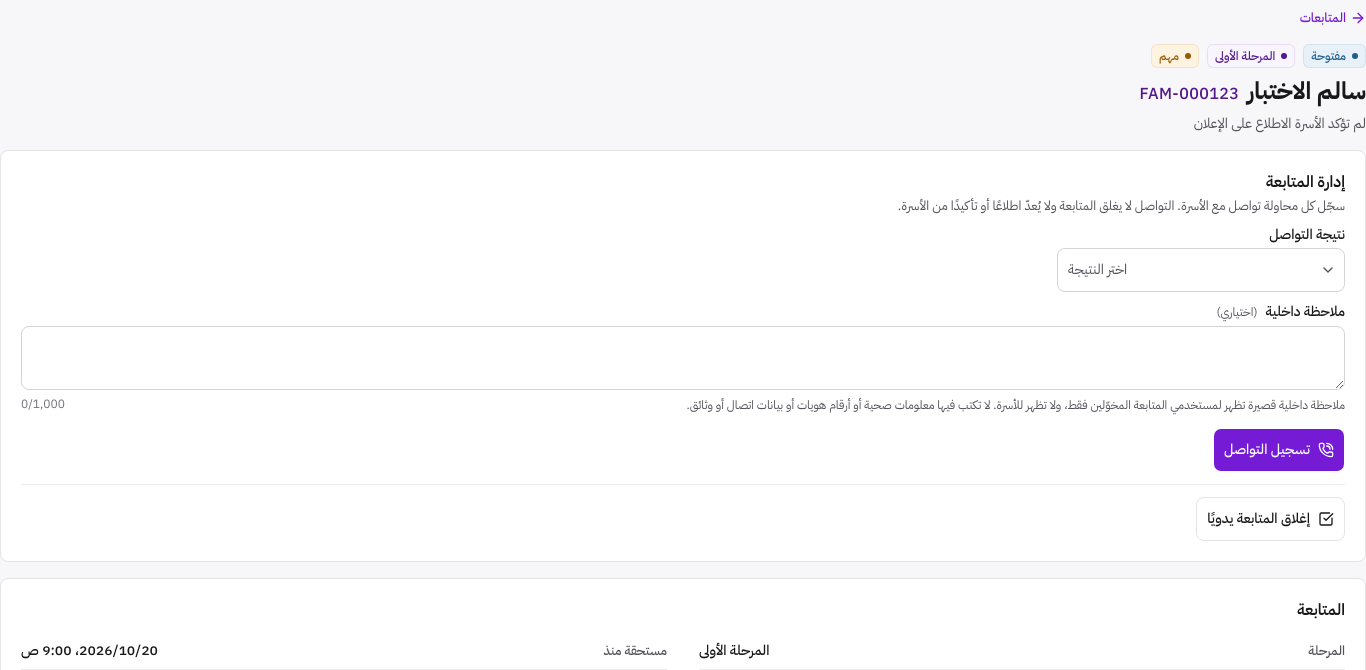
Test case: recording a contact › drops the reference on a 409 reference conflict, and maps 422 to the field
Click the dropdown named "نتيجة التواصل".
click(1098, 270)  # box x1=1057 y1=248 x2=1345 y2=292
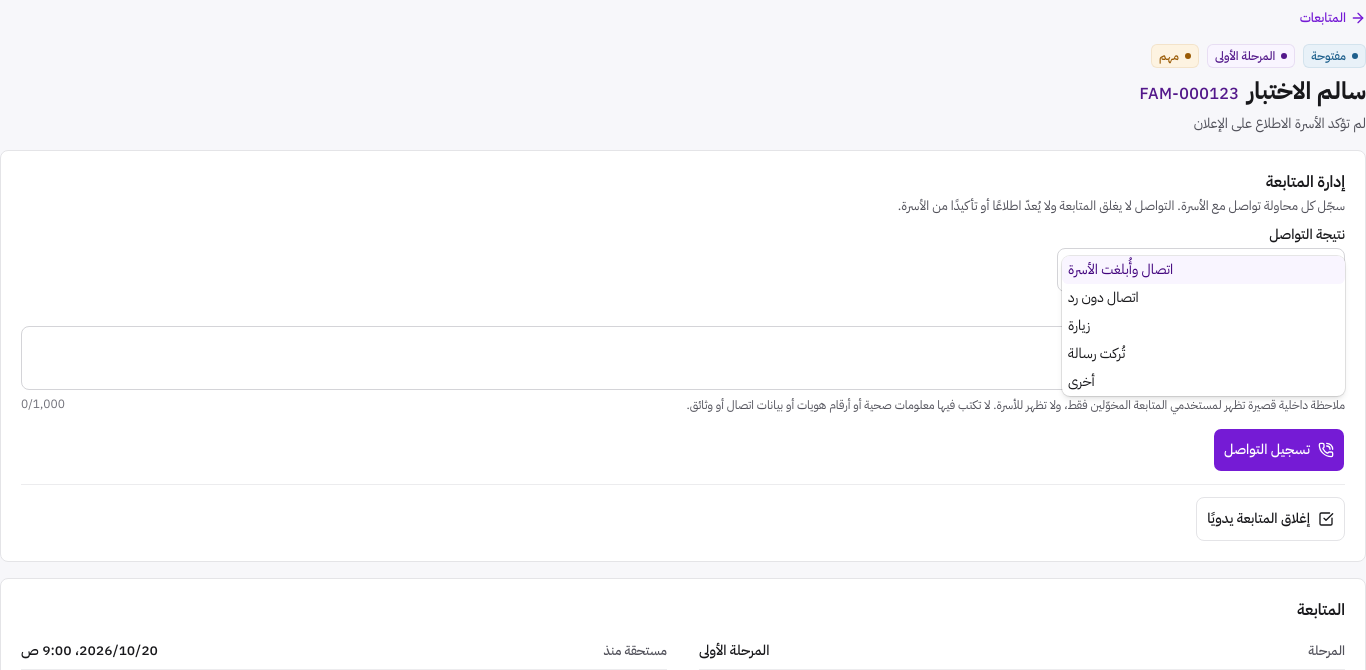
Click the option "أخرى".
click(1081, 382)  # box x1=1068 y1=371 x2=1095 y2=392
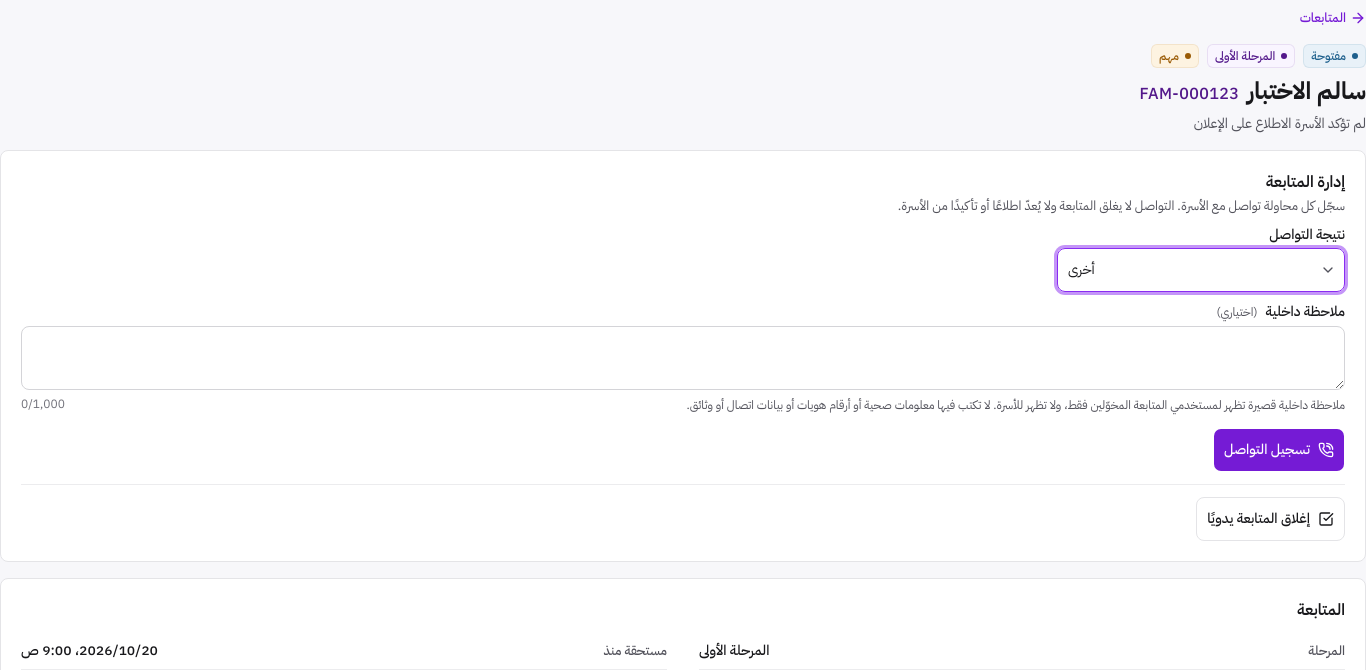
Click the button "تسجيل التواصل".
click(1279, 450)  # box x1=1213 y1=428 x2=1345 y2=472
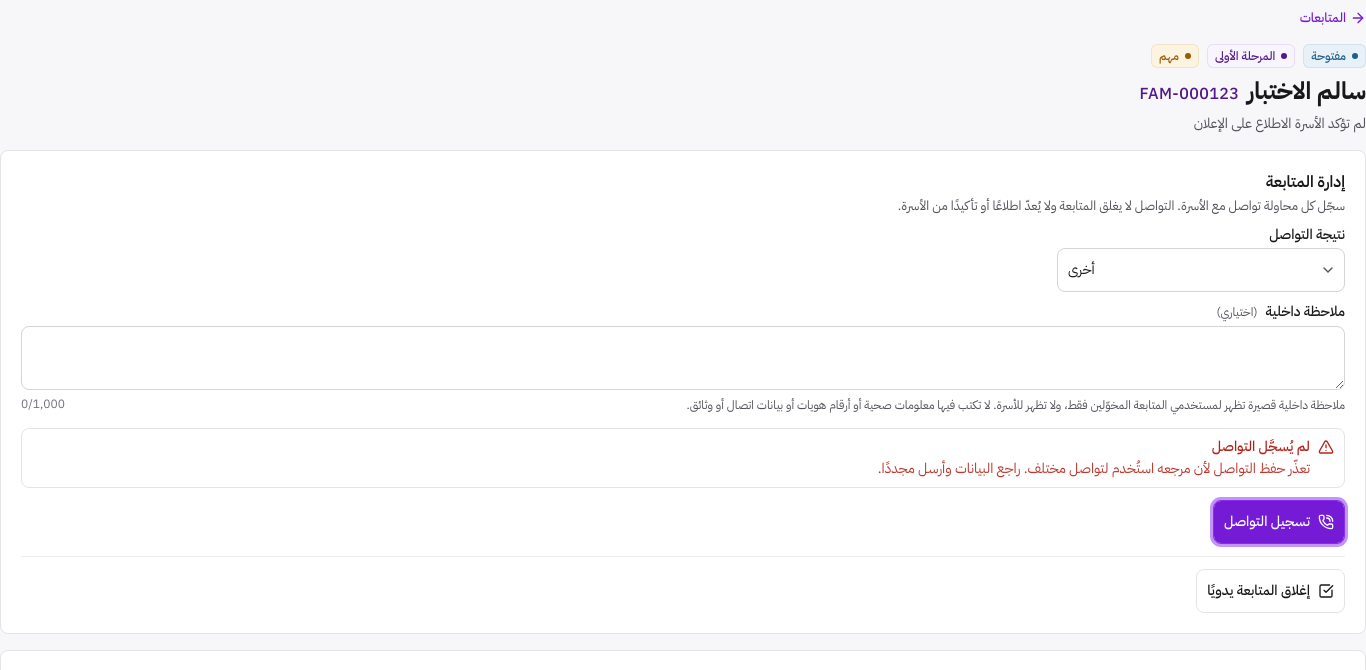
Expected: the text "مرجعه استُخدم لتواصل مختلف" is shown, x1=878 y1=458 x2=1310 y2=479
Click the button "تسجيل التواصل".
click(1279, 522)  # box x1=1213 y1=500 x2=1345 y2=544
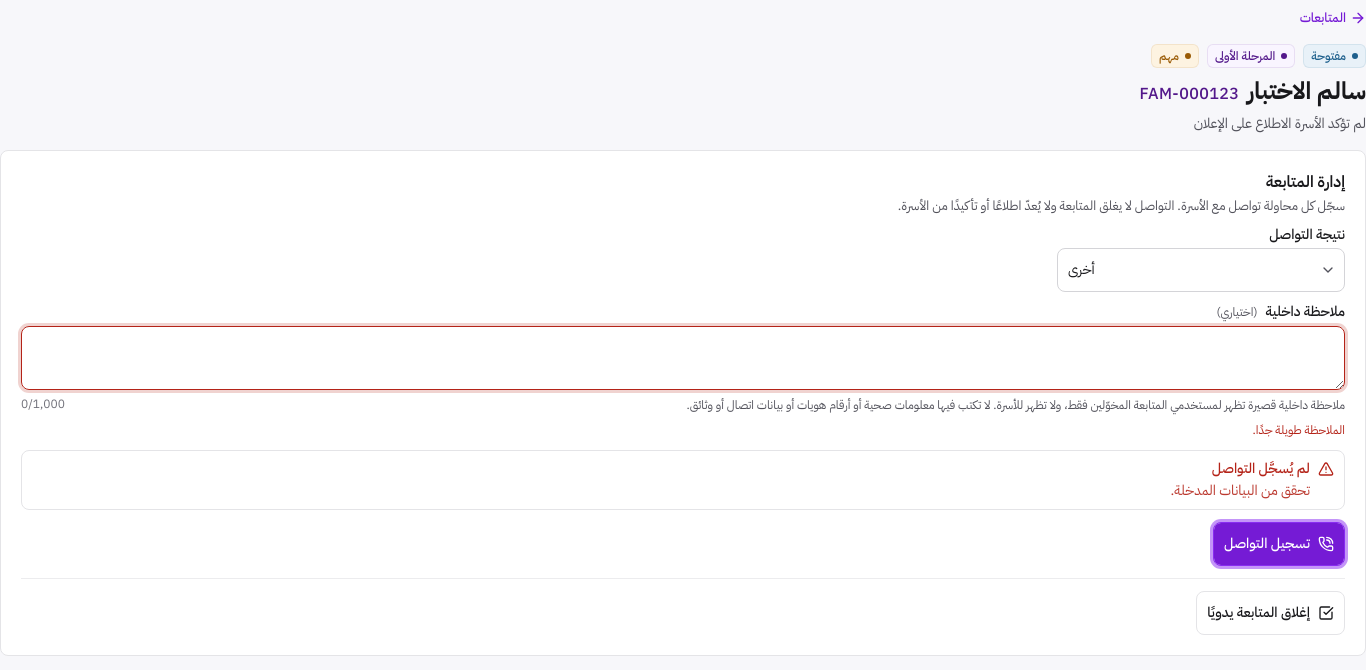
Expected: the text "الملاحظة طويلة جدًا." is shown, x1=1253 y1=421 x2=1345 y2=439
